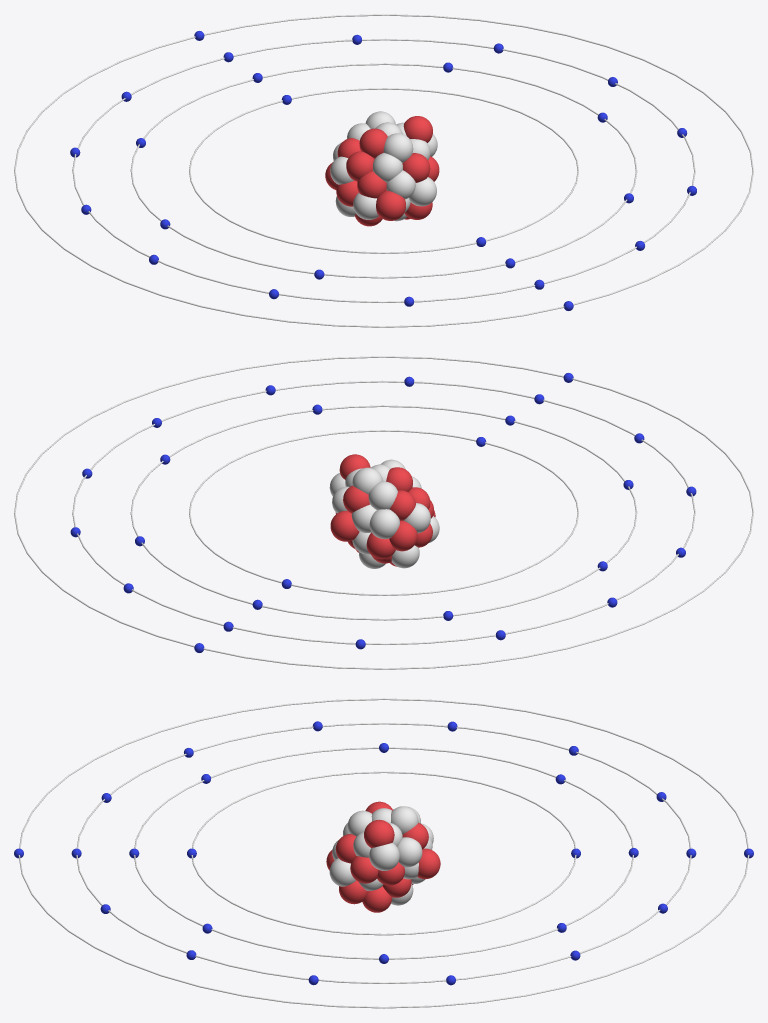
File: Eisen.glb
The picture shows the model from 3 angles, top to bottom: view 1: azimuth 30°, elevation 25°; view 2: azimuth 150°, elevation 25°; view 3: azimuth 270°, elevation 25°; orthographic projection.
Parts seen in each view (by area): view 1: N-Schale, M-Schale, L-Schale, K-Schale, Proton 24, Neutron 29, Neutron 15, Proton 16, Proton 19, Proton 26, Proton 10, Proton 23 (+2 smaller); view 2: N-Schale, M-Schale, L-Schale, K-Schale, Neutron 8, Neutron 16, Proton 18, Proton 4, Neutron 30, Proton 8; view 3: N-Schale, M-Schale, L-Schale, K-Schale, Proton 26, Neutron 28, Neutron 22, Proton 22, Proton 18, Proton 25, Neutron 30, Neutron 27.
Part boxes in pixels (x1,y1,x2,y2): N-Schale: (14, 14, 753, 327); M-Schale: (72, 38, 695, 303); L-Schale: (130, 63, 637, 278); K-Schale: (189, 88, 578, 253); Proton 24: (376, 190, 405, 220); Neutron 29: (383, 133, 413, 162); Neutron 15: (373, 153, 402, 182); Proton 16: (359, 128, 387, 158); Proton 19: (346, 151, 374, 181); Proton 26: (403, 116, 432, 142); Proton 10: (357, 171, 386, 198); Proton 23: (402, 153, 430, 182); N-Schale: (14, 356, 753, 669); M-Schale: (72, 380, 695, 645); L-Schale: (130, 405, 637, 620); K-Schale: (189, 430, 578, 595); Neutron 8: (369, 509, 399, 539); Neutron 16: (368, 481, 397, 510); Proton 18: (330, 511, 359, 541); Proton 4: (389, 520, 417, 551); Neutron 30: (352, 467, 382, 494); Proton 8: (389, 490, 415, 520); N-Schale: (18, 698, 749, 1008); M-Schale: (76, 723, 691, 983); L-Schale: (134, 747, 633, 959); K-Schale: (191, 771, 576, 935); Proton 26: (364, 819, 394, 847); Neutron 28: (369, 843, 399, 870); Neutron 22: (397, 837, 422, 867); Proton 22: (350, 856, 378, 883); Proton 18: (417, 848, 440, 879); Proton 25: (362, 886, 392, 912); Neutron 30: (391, 806, 418, 834); Neutron 27: (329, 858, 355, 886).
Size of the model in its own units: 19.04 by 2.82 by 19.26.
